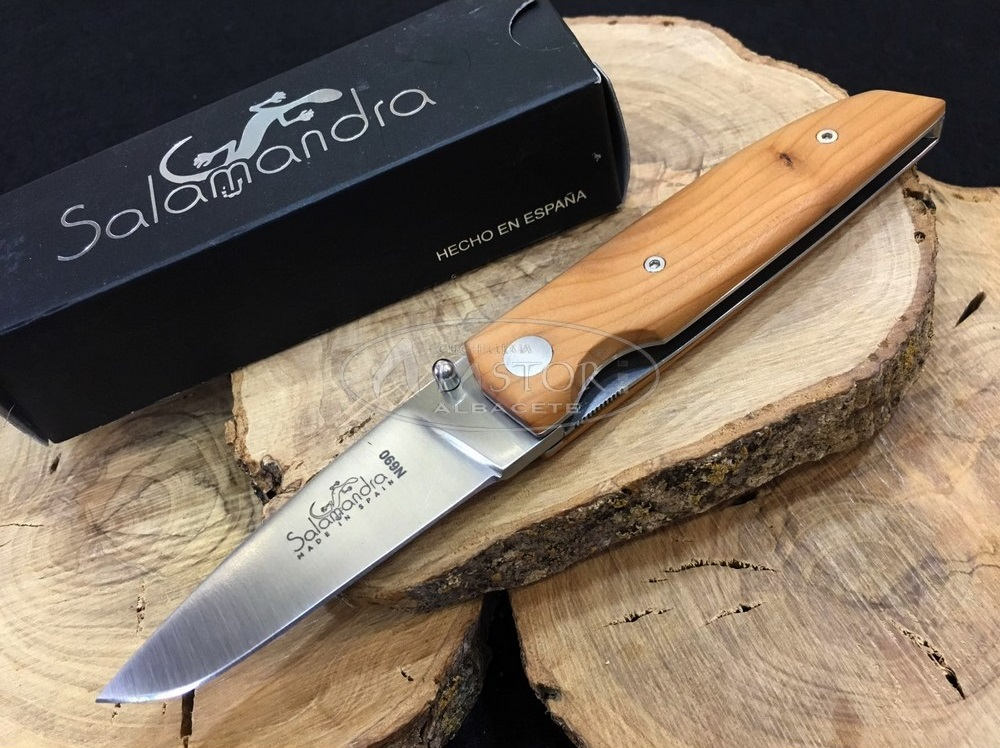knife: (82, 339, 565, 713)
